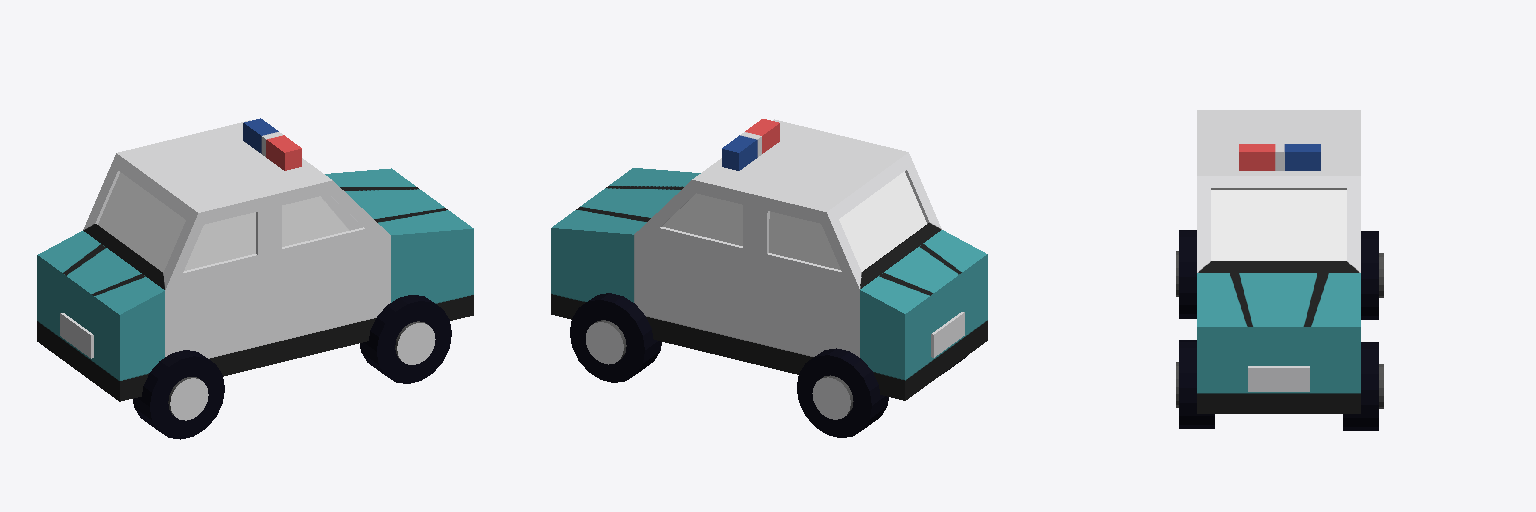
3 renders of one model, left to right at view 1: azimuth 30°, elevation 25°; view 2: azimuth 150°, elevation 25°; view 3: azimuth 270°, elevation 25°, orthographic.
Visible parts, largest first — view 1: Object153; view 2: Object153; view 3: Object153.
Boxes of the visible parts, x1,y1,x2,y2 form: Object153: [37, 118, 473, 439]; Object153: [551, 119, 987, 437]; Object153: [1176, 110, 1383, 430].
Size of the model in its own units: 285 by 175 by 143.
Materials: 1 (1 with a texture image).